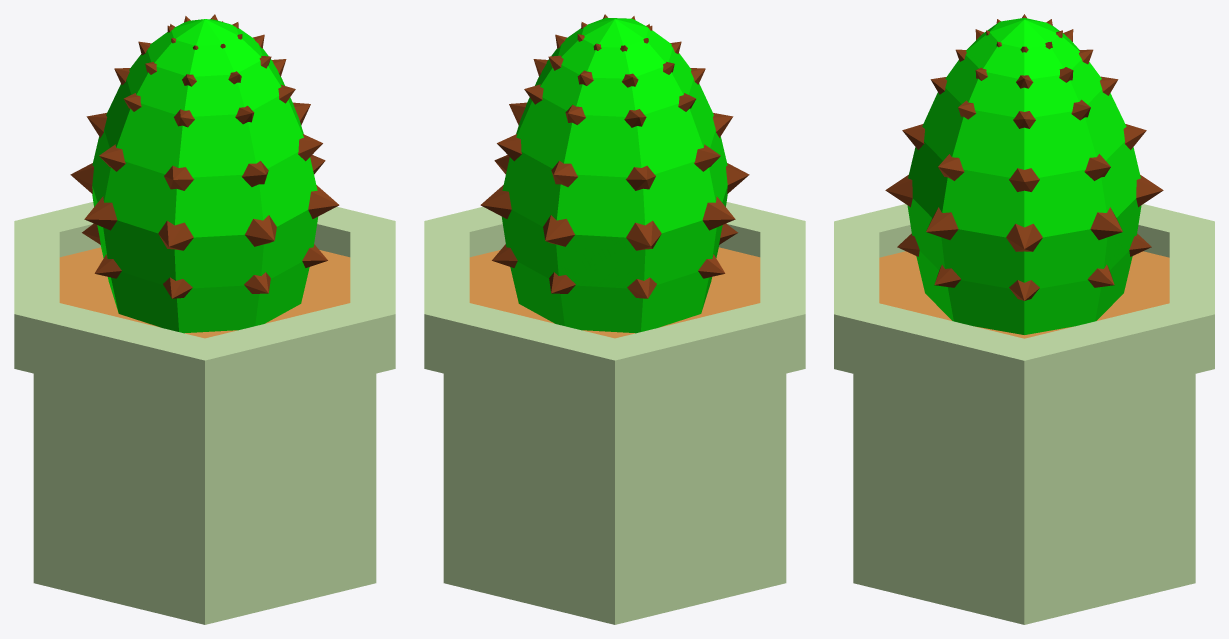
The model's file is Plant_Spiky.fbx.
The picture shows the model from 3 angles, left to right: view 1: azimuth 30°, elevation 25°; view 2: azimuth 150°, elevation 25°; view 3: azimuth 270°, elevation 25°; orthographic projection.
Parts seen in each view (by area): view 1: Cylinder002, Cylinder003, Cone008; view 2: Cylinder002, Cylinder003, Cone008; view 3: Cylinder002, Cylinder003, Cone008.
Part boxes in pixels (<box>): Cylinder002: <box>14,202,395,624</box>; Cylinder003: <box>92,19,317,333</box>; Cone008: <box>70,14,339,298</box>; Cylinder002: <box>424,202,805,624</box>; Cylinder003: <box>502,17,727,333</box>; Cone008: <box>480,14,749,298</box>; Cylinder002: <box>834,204,1214,624</box>; Cylinder003: <box>907,18,1141,334</box>; Cone008: <box>885,14,1163,300</box>.
Size of the model in its own units: 9.55 by 12.5 by 8.27.
